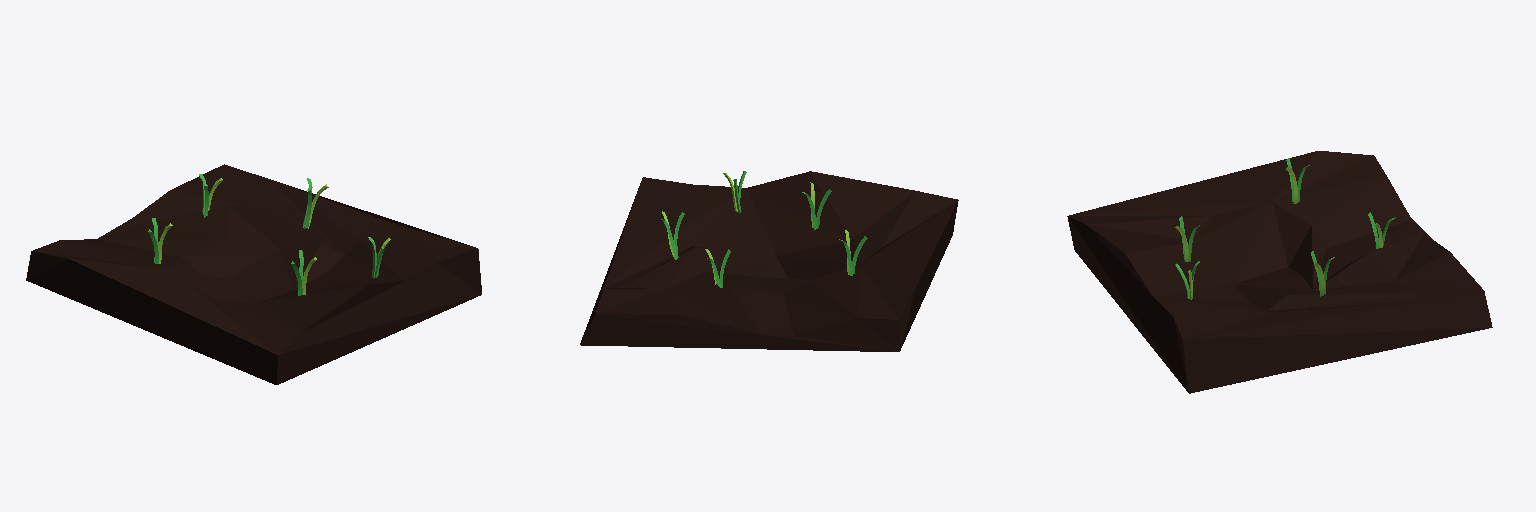
Rendered from soil.obj.
The picture shows the model from 3 angles: view 1: azimuth 30°, elevation 25°; view 2: azimuth 150°, elevation 25°; view 3: azimuth 270°, elevation 25°; orthographic projection.
Visible parts, largest first — view 1: model:mesh[number redacted]; view 2: model:mesh[number redacted]; view 3: model:mesh[number redacted].
Boxes of the visible parts, <box> form: model:mesh[number redacted]: <box>26,164,481,384</box>; model:mesh[number redacted]: <box>580,171,958,351</box>; model:mesh[number redacted]: <box>1067,151,1492,393</box>.
Bounding box in the file's own units: 1.46 × 0.3815 × 1.48.